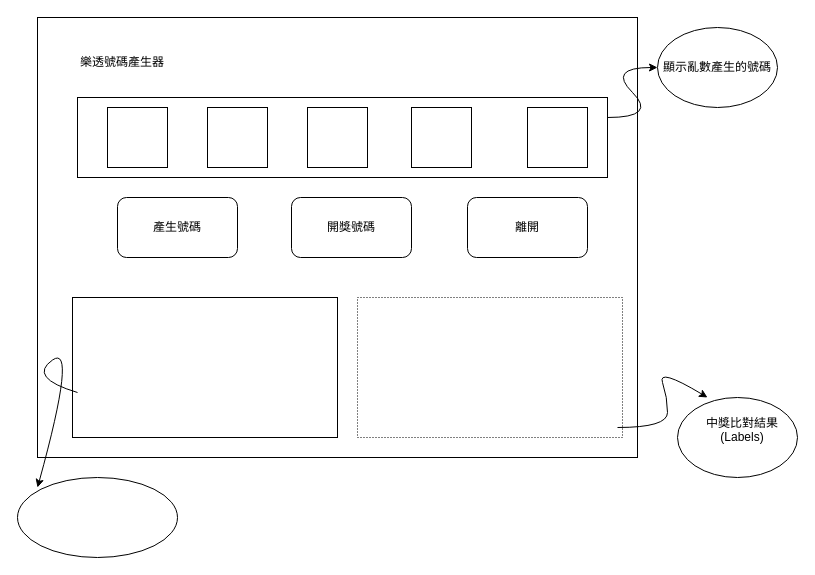
The diagram is 815 pixels wide and 575 high, and some of its shapes have lost their labels. Here are the shapes that lost their labels. From the top down, the centre of each, then its label:
At point 489,367: "中獎比對結果".
At point 97,517: "顯示自檔案讀取的開獎號碼".
